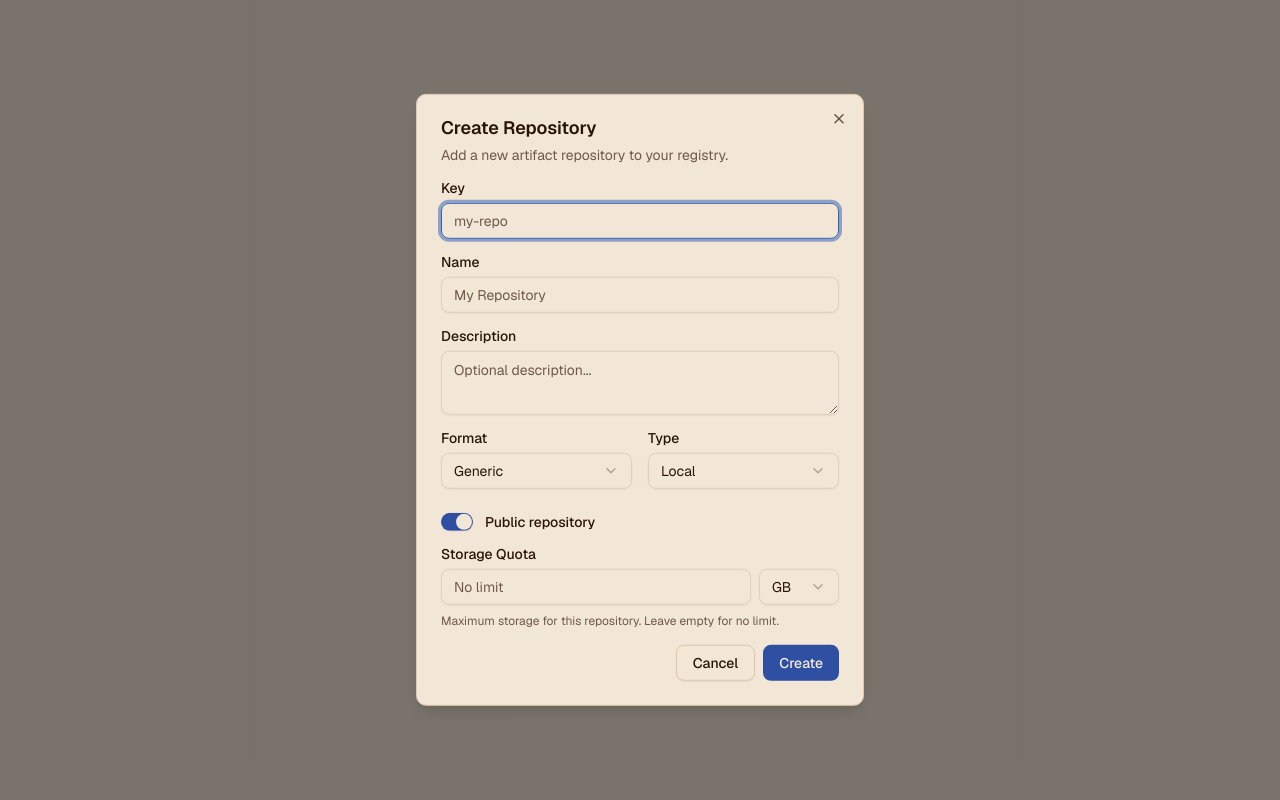
Scenario: RepoDialogs - Create Dialog › shows key-taken error when key matches existing repo
Type "test-repo" into the field with placeholder "my-repo" at (640, 221), box [441,203,839,239]
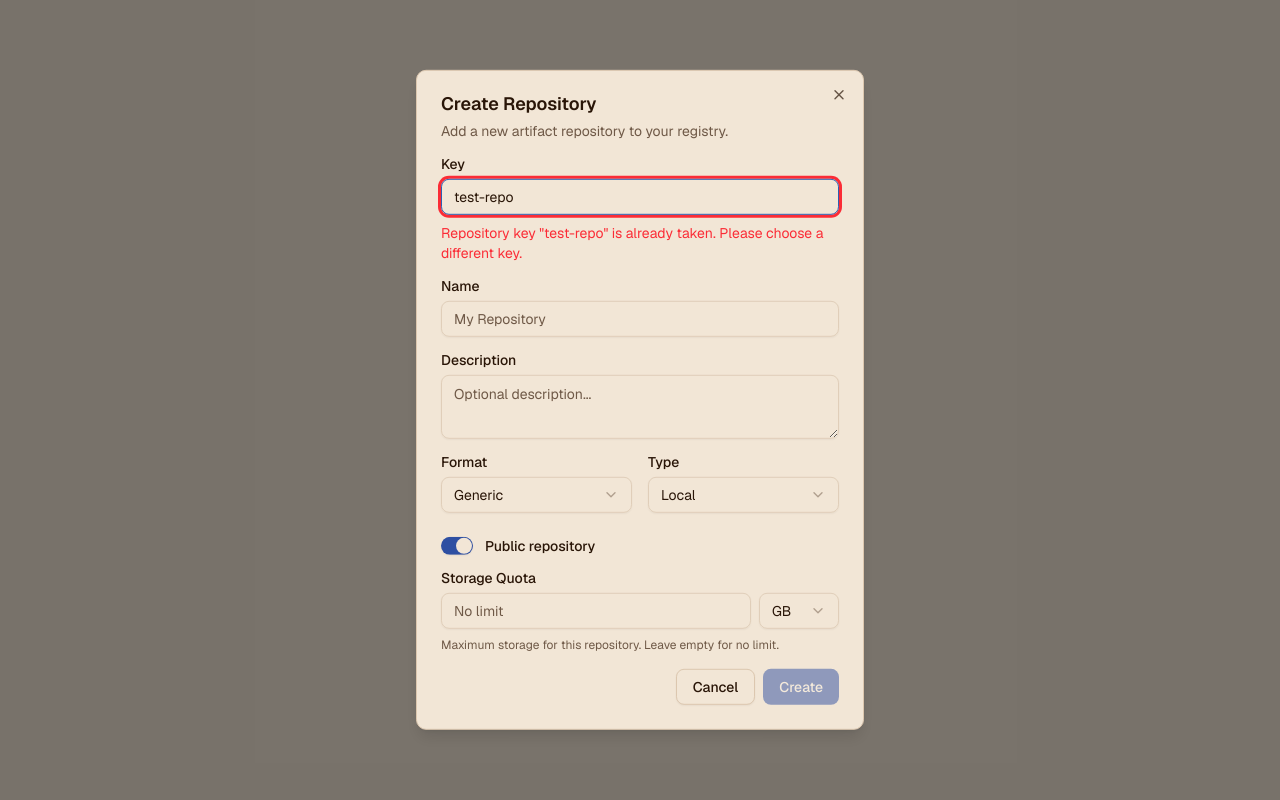
Expected: the text "already taken" is shown, [441,224,824,262]
